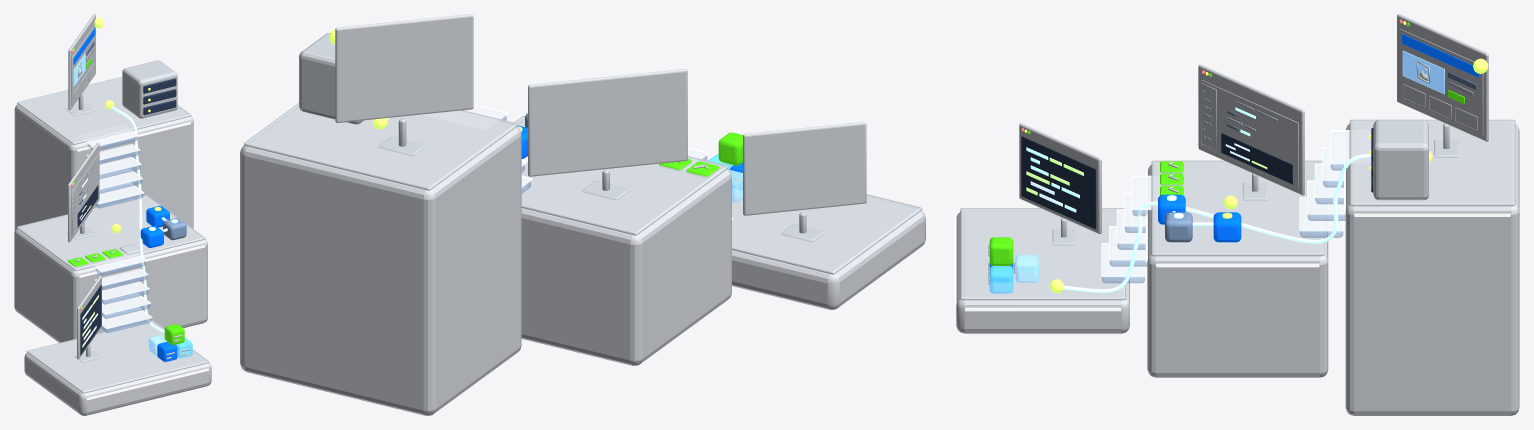
The model's file is build-path-staircase.glb.
3 renders of one model, left to right at view 1: azimuth 30°, elevation 25°; view 2: azimuth 150°, elevation 25°; view 3: azimuth 270°, elevation 25°, orthographic. The views are drawn at different scales.
Visible parts, largest first — view 1: TierDevelop, TierCreate, TierLearn, Steps01, Steps02, Server, DevelopIDE, DeployedApp, LearnTerminal, ApiModules, CodeBlocks, Pipeline (+1 smaller); view 2: TierCreate, TierDevelop, TierLearn, DevelopIDE, DeployedApp, LearnTerminal, Server, CodeBlocks, Steps02; view 3: TierCreate, TierDevelop, TierLearn, DevelopIDE, DeployedApp, LearnTerminal, Server, Steps02, Steps01, ApiModules, CodeBlocks, Pipeline (+1 smaller).
Part boxes in pixels (<box>): TierDevelop: <box>14,195,207,342</box>; TierCreate: <box>14,77,193,231</box>; TierLearn: <box>24,320,211,415</box>; Steps01: <box>87,252,152,332</box>; Steps02: <box>79,125,144,208</box>; Server: <box>122,60,177,118</box>; DevelopIDE: <box>67,142,99,242</box>; DeployedApp: <box>66,14,103,115</box>; LearnTerminal: <box>74,275,101,362</box>; ApiModules: <box>140,206,186,247</box>; CodeBlocks: <box>148,324,192,361</box>; Pipeline: <box>110,106,164,333</box>; TierCreate: <box>240,103,521,415</box>; TierDevelop: <box>514,116,731,365</box>; TierLearn: <box>732,190,925,309</box>; DevelopIDE: <box>528,69,687,200</box>; DeployedApp: <box>329,14,473,155</box>; LearnTerminal: <box>743,122,866,241</box>; Server: <box>299,33,363,124</box>; CodeBlocks: <box>708,132,743,202</box>; Steps02: <box>425,104,532,193</box>; TierCreate: <box>1344,119,1519,415</box>; TierDevelop: <box>1145,160,1328,377</box>; TierLearn: <box>954,208,1129,333</box>; DevelopIDE: <box>1198,64,1304,200</box>; DeployedApp: <box>1397,14,1488,157</box>; LearnTerminal: <box>1019,123,1101,245</box>; Server: <box>1368,119,1428,200</box>; Steps02: <box>1299,130,1370,237</box>; Steps01: <box>1101,175,1160,283</box>; ApiModules: <box>1158,194,1241,242</box>; CodeBlocks: <box>988,237,1038,293</box>; Pipeline: <box>1063,153,1371,292</box>.
Size of the model in its own units: 6.03 by 5.2 by 8.12.
